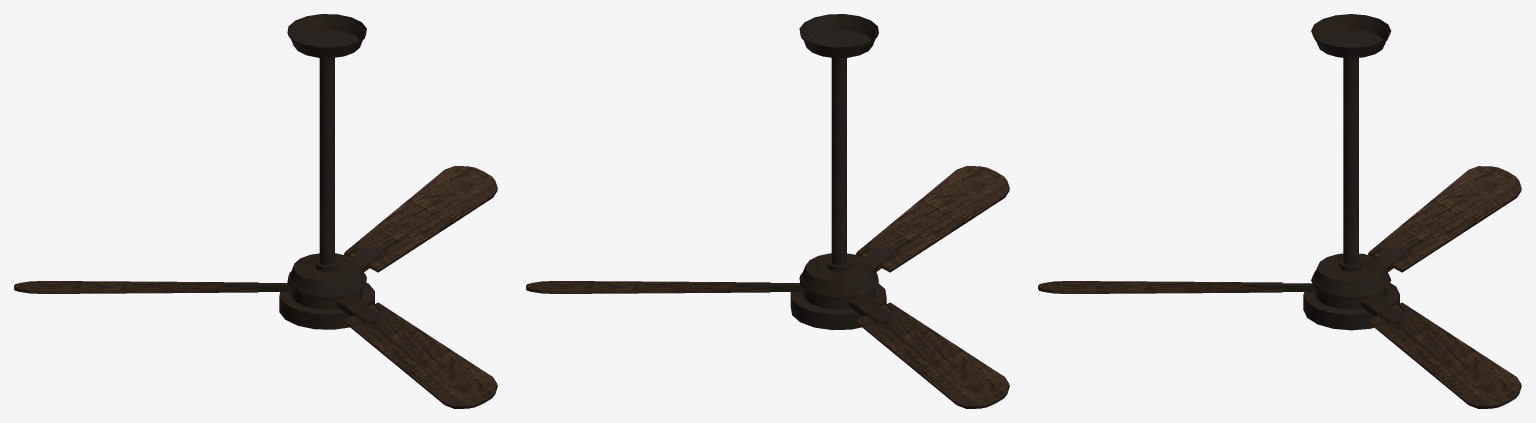
File: ceiling_fan_mp_1.dae
3 renders of one model, left to right at view 1: azimuth 30°, elevation 25°; view 2: azimuth 150°, elevation 25°; view 3: azimuth 270°, elevation 25°, orthographic.
Visible parts, largest first — view 1: ceiling_fan_mp_1_blades, ceiling_fan_mp_1; view 2: ceiling_fan_mp_1_blades, ceiling_fan_mp_1; view 3: ceiling_fan_mp_1_blades, ceiling_fan_mp_1.
Part boxes in pixels (x1,y1,x2,y2): ceiling_fan_mp_1_blades: (14,166,497,408); ceiling_fan_mp_1: (279,14,374,329); ceiling_fan_mp_1_blades: (526,166,1009,408); ceiling_fan_mp_1: (790,14,886,330); ceiling_fan_mp_1_blades: (1038,166,1521,408); ceiling_fan_mp_1: (1303,14,1399,330).
Size of the model in its own units: 1.02 by 0.8979 by 0.5915.
Materials: 2 (2 with a texture image).
